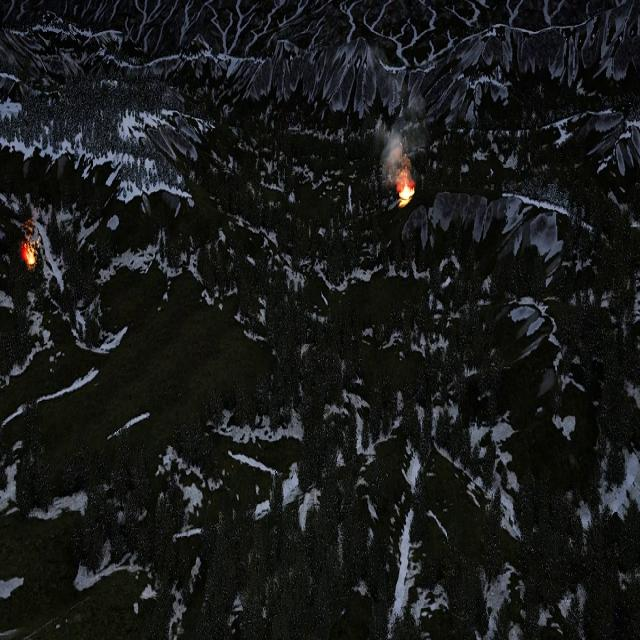fire: (22, 218, 38, 266), (397, 181, 413, 204)
smoke: (372, 92, 429, 185)
